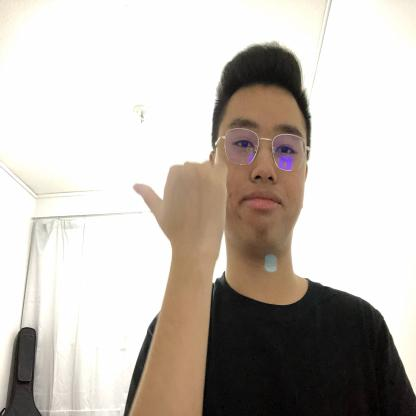right: (134, 161, 229, 254)
